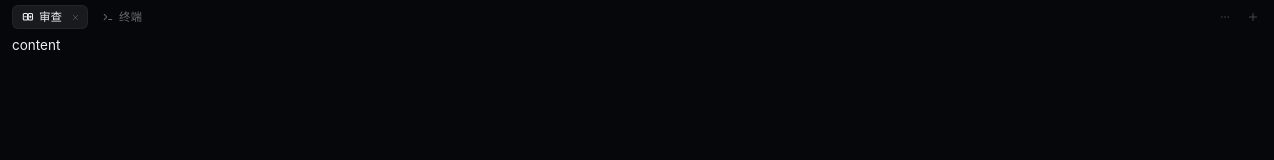
工作台标签栏 › 有多个打开的标签时「关闭其他」可用
The image size is (1274, 160).
Right-click the element with class "wb-tab" showing "审查".
right_click(50, 17)  # box [12,5,88,29]
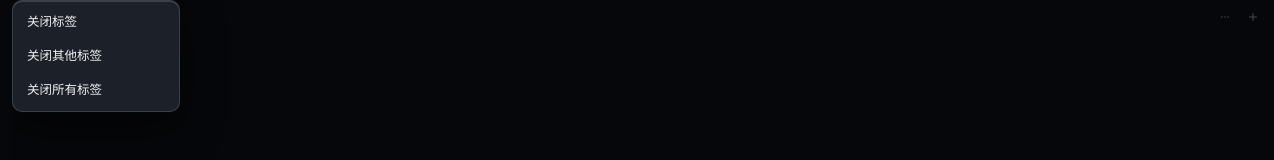
expect the number of buttons with class "ctx-item" is 3: met, box [17,5,175,39]; [17,39,175,73]; [17,73,175,107]
expect the button with class "ctx-item" showing "关闭其他标签" is enabled: met, box [17,39,175,73]
